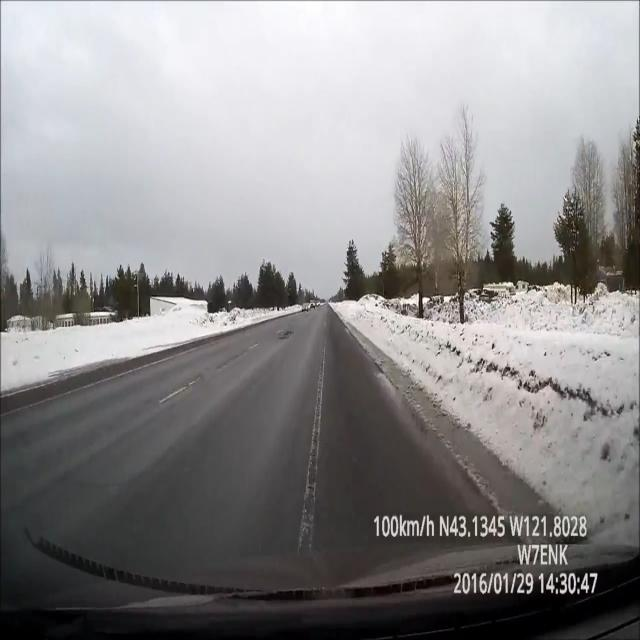Pothole: (276, 324, 294, 345)
